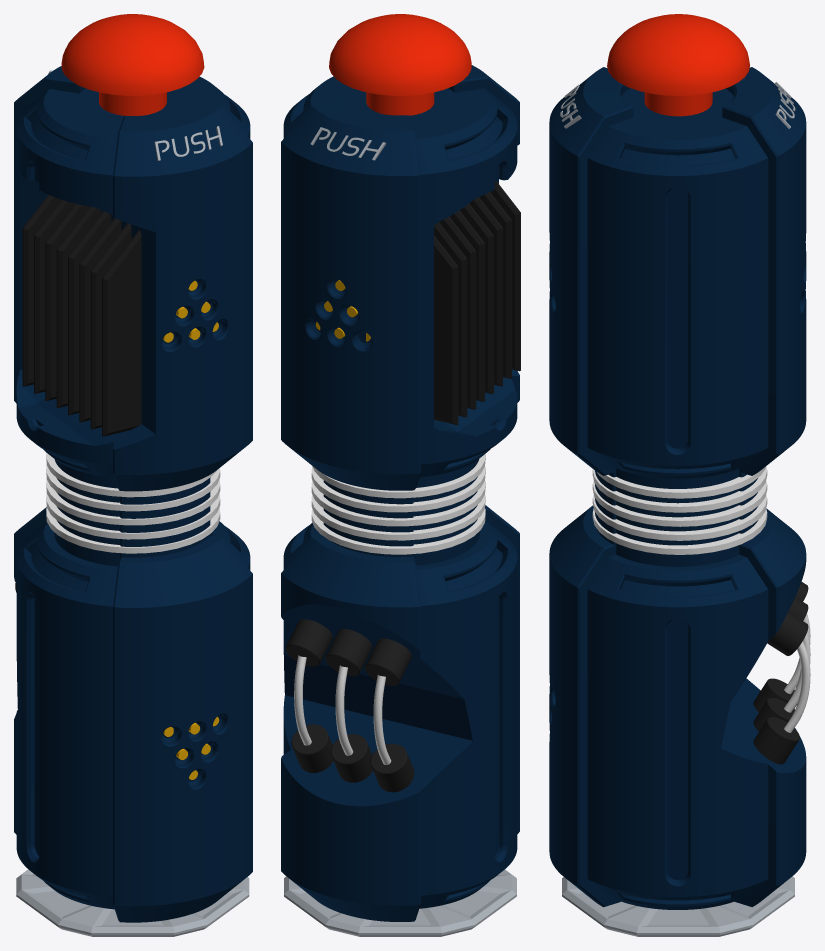
File: button_new.fbx
3 views of the same model, side by side, from view 1: azimuth 30°, elevation 25°; view 2: azimuth 150°, elevation 25°; view 3: azimuth 270°, elevation 25° (orthographic).
Parts seen in each view (by area): view 1: switch_a, button_a; view 2: switch_a, button_a; view 3: switch_a, button_a.
Boxes of the visible parts, x1,y1,x2,y2 form: switch_a: [14, 66, 252, 936]; button_a: [61, 14, 204, 115]; switch_a: [281, 65, 520, 936]; button_a: [329, 14, 471, 115]; switch_a: [549, 67, 810, 936]; button_a: [607, 14, 749, 116].
Bounding box in the file's own units: 26.73 × 110 × 29.86.
